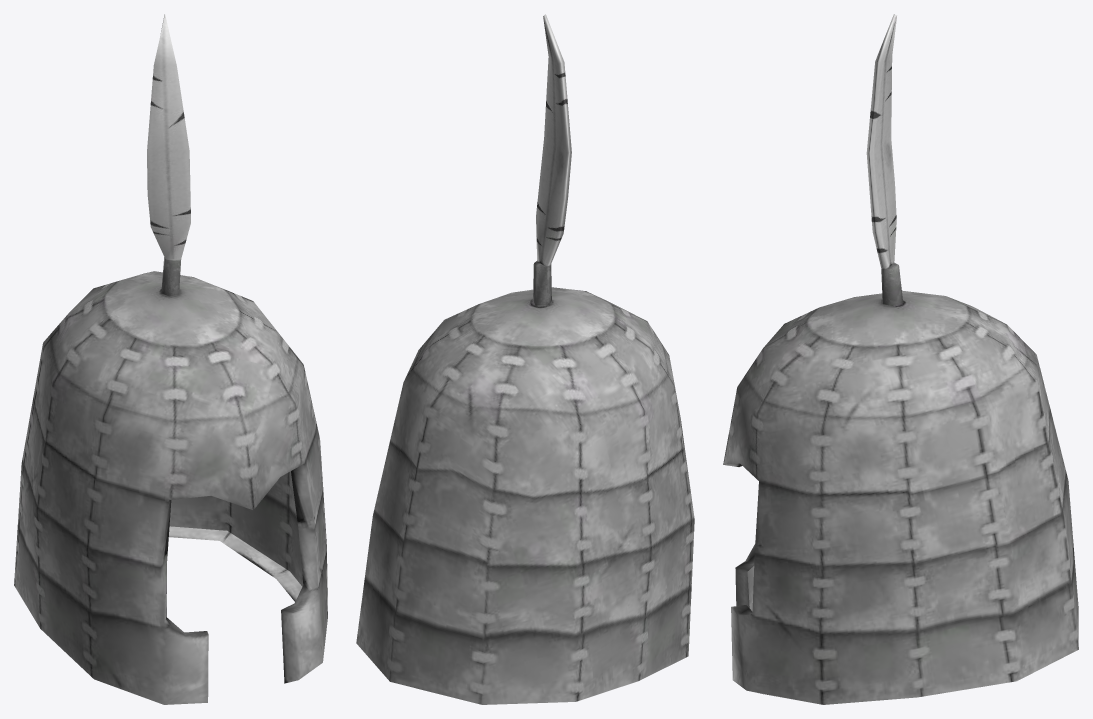
File: helmet-base.glb
3 renders of one model, left to right at view 1: azimuth 30°, elevation 25°; view 2: azimuth 150°, elevation 25°; view 3: azimuth 270°, elevation 25°, orthographic. The views are drawn at different scales.
Size of the model in its own units: 0.2425 by 0.5807 by 0.2899.
1 material, 1 textured.
